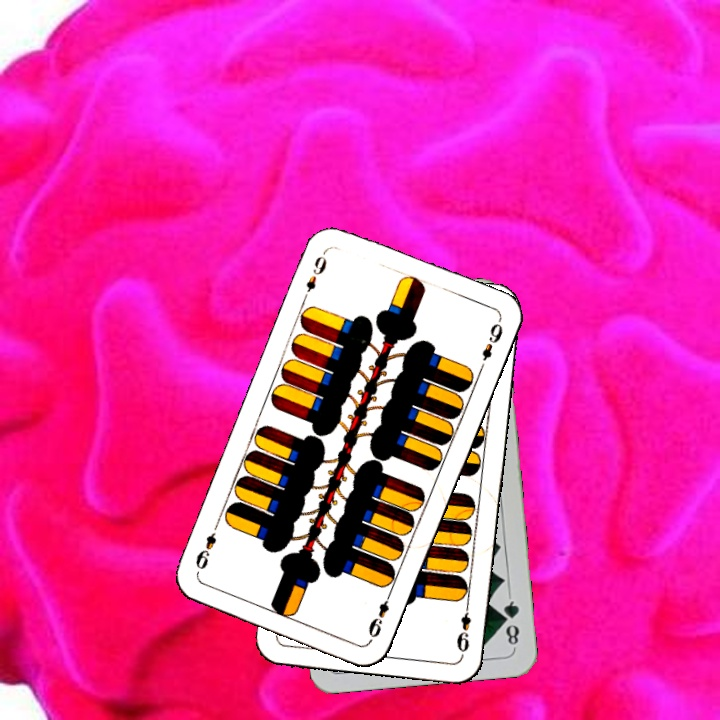E9: (298, 247, 330, 304), (364, 586, 395, 643), (453, 598, 473, 657)
G8: (498, 592, 522, 651)
